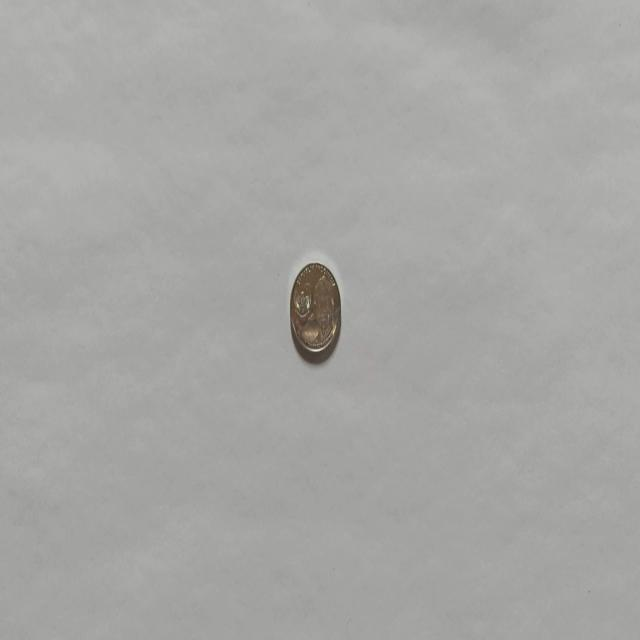dua ratus rupiah: (289, 260, 341, 354)
